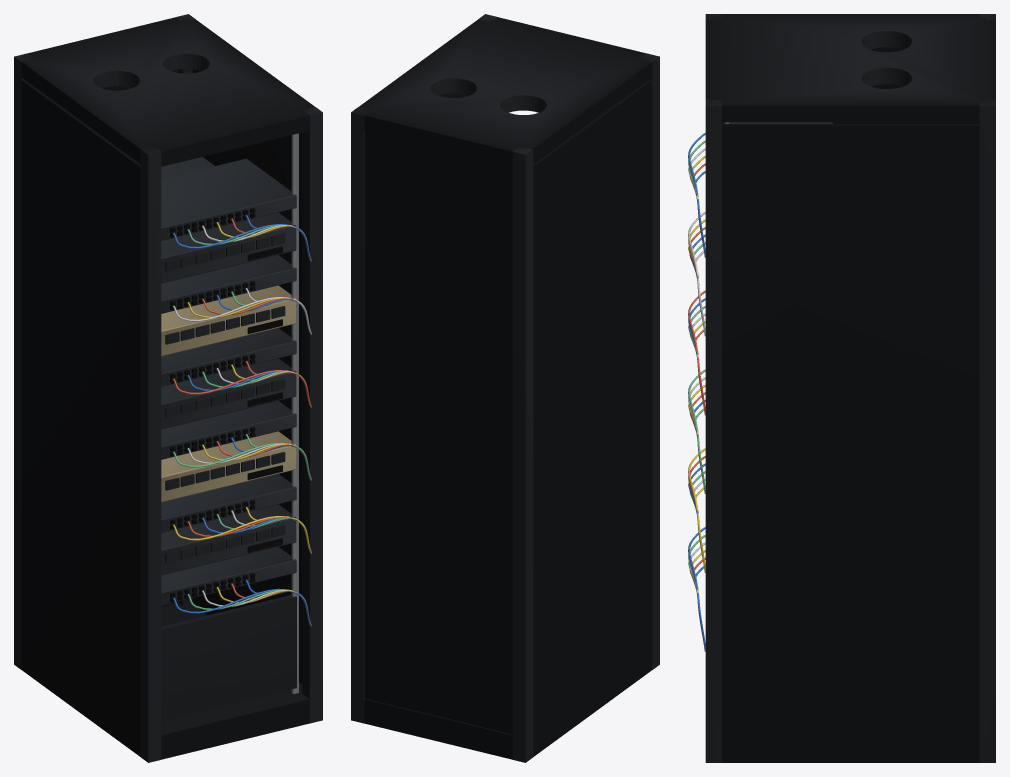
The model's file is rack.glb.
3 views of the same model, side by side, from view 1: azimuth 30°, elevation 25°; view 2: azimuth 150°, elevation 25°; view 3: azimuth 270°, elevation 25° (orthographic). The views are drawn at different scales.
Visible parts, largest first — view 1: Rack; view 2: Rack; view 3: Rack.
Part boxes in pixels (x1,y1,x2,y2): Rack: (14, 14, 322, 762); Rack: (351, 14, 659, 762); Rack: (688, 14, 995, 762).
Size of the model in its own units: 0.601 by 2 by 0.8494.
